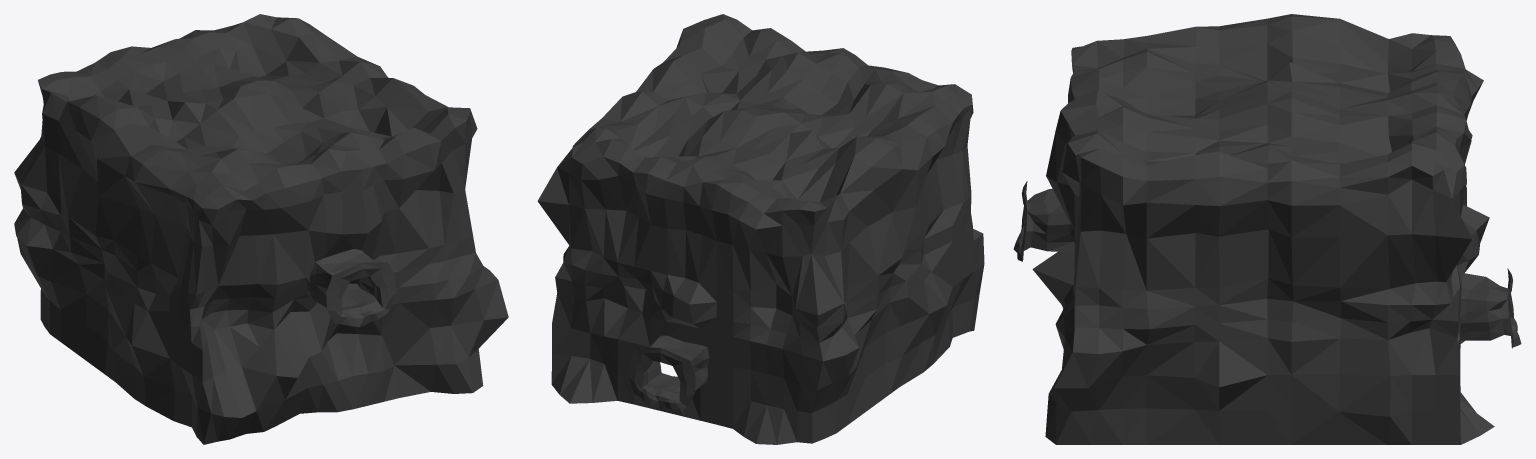
The model's file is Cave_11A.fbx.
3 views of the same model, side by side, from view 1: azimuth 30°, elevation 25°; view 2: azimuth 150°, elevation 25°; view 3: azimuth 270°, elevation 25° (orthographic). The views are drawn at different scales.
Parts seen in each view (by area): view 1: polySurface605; view 2: polySurface605; view 3: polySurface605.
Boxes of the visible parts, x1=… form: polySurface605: x1=14, y1=14, x2=508, y2=444; polySurface605: x1=537, y1=14, x2=984, y2=444; polySurface605: x1=1013, y1=14, x2=1521, y2=444.
Bounding box in the file's own units: 42.5 × 33.56 × 52.73.
